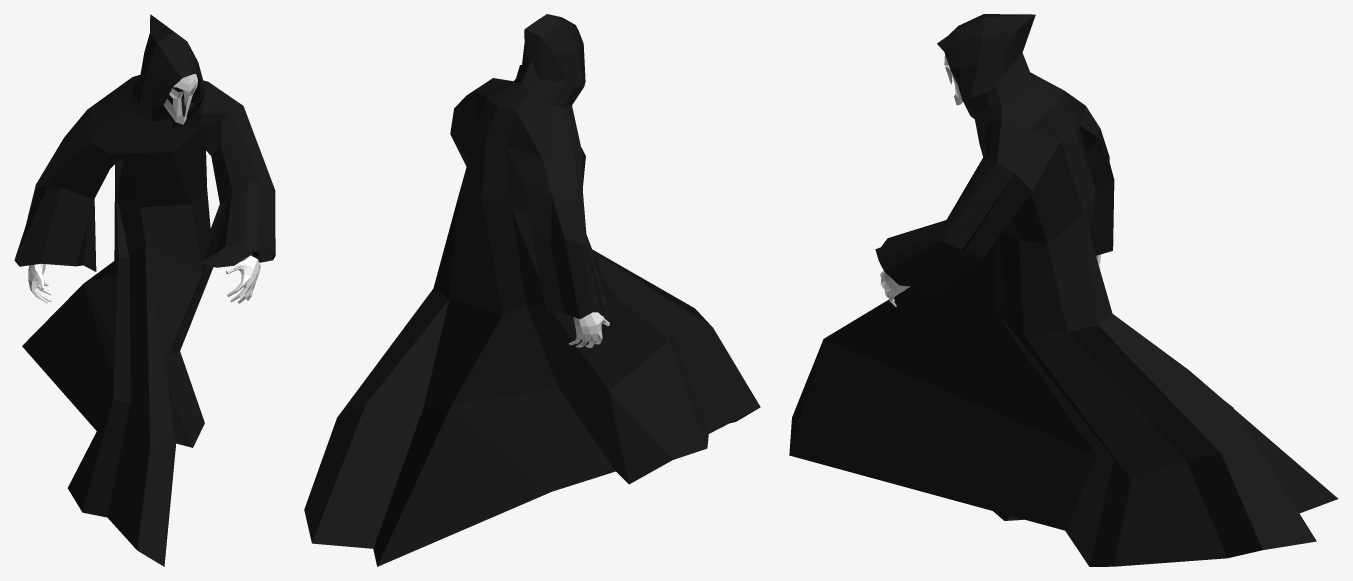
Rendered from ReaperWalk(29).obj.
The picture shows the model from 3 angles, left to right: view 1: azimuth 30°, elevation 25°; view 2: azimuth 150°, elevation 25°; view 3: azimuth 270°, elevation 25°; orthographic projection. The views are drawn at different scales.
Parts seen in each view (by area): view 1: Plane003; view 2: Plane003; view 3: Plane003.
Boxes of the visible parts, box(x1,y1,x2,y2) form: Plane003: box(14, 14, 275, 566); Plane003: box(304, 14, 760, 566); Plane003: box(789, 14, 1338, 566).
Bounding box in the file's own units: 110 × 205 × 198.
